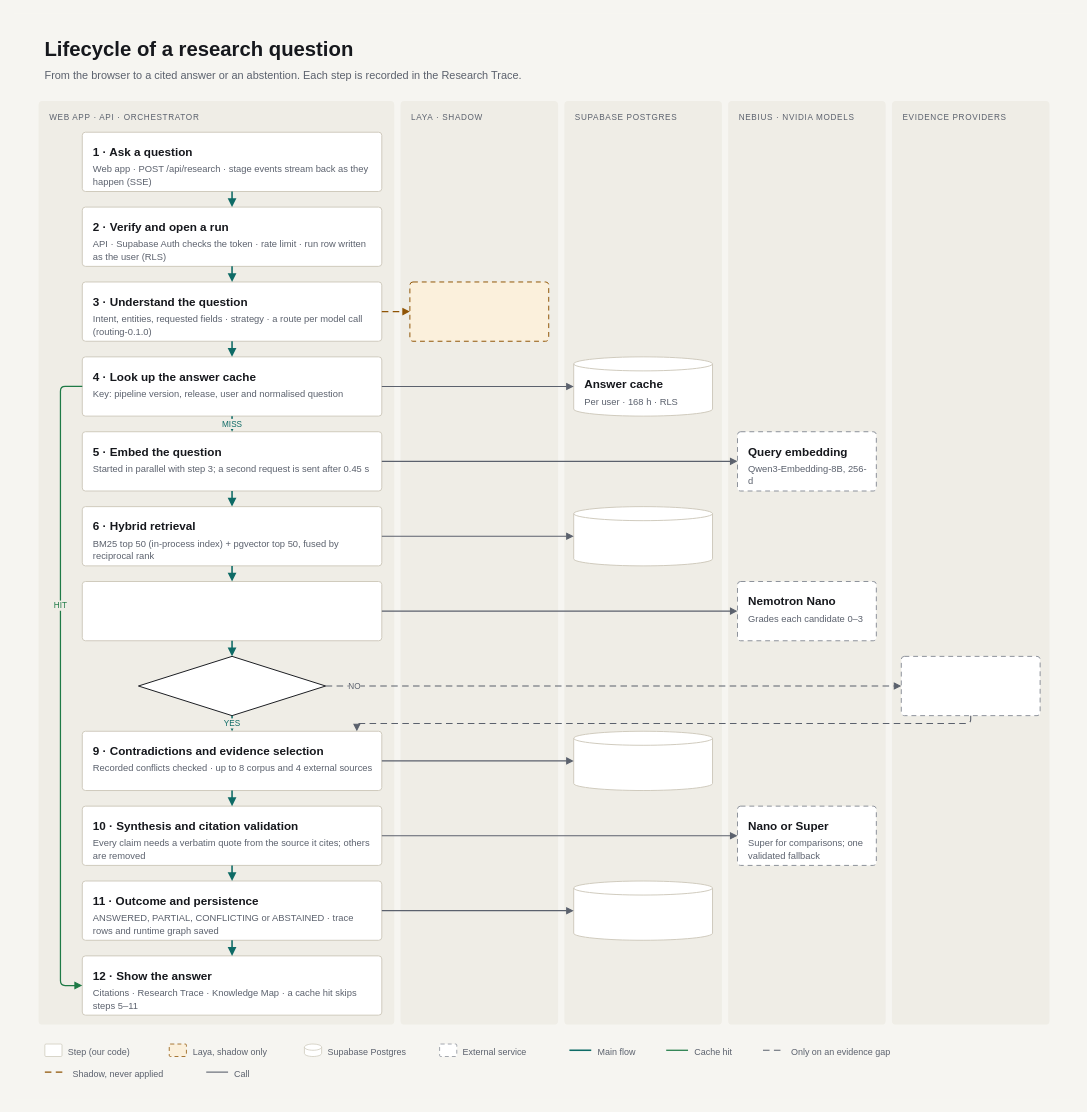
This 1087x1112 diagram has some shape labels left out. The centre of each missing label's shape, as x and y in pixels:
"7 · Rerank the top 20 Graded 0–3; if the reranker fails, the fused order is kept" goes at pixel 231 611.
"8 · Evidence sufficient?" goes at pixel 232 686.
"External search Providers chosen by need · source gate" goes at pixel 970 686.
"Persist Trace · graph · cache" goes at pixel 643 910.
"pgvector search Top 50 · halfvec(256)" goes at pixel 643 536.
"rx.contradictions Recorded conflicts" goes at pixel 643 760.
"Shadow decision Traced beside the rules' choice; never applied" goes at pixel 479 311.
